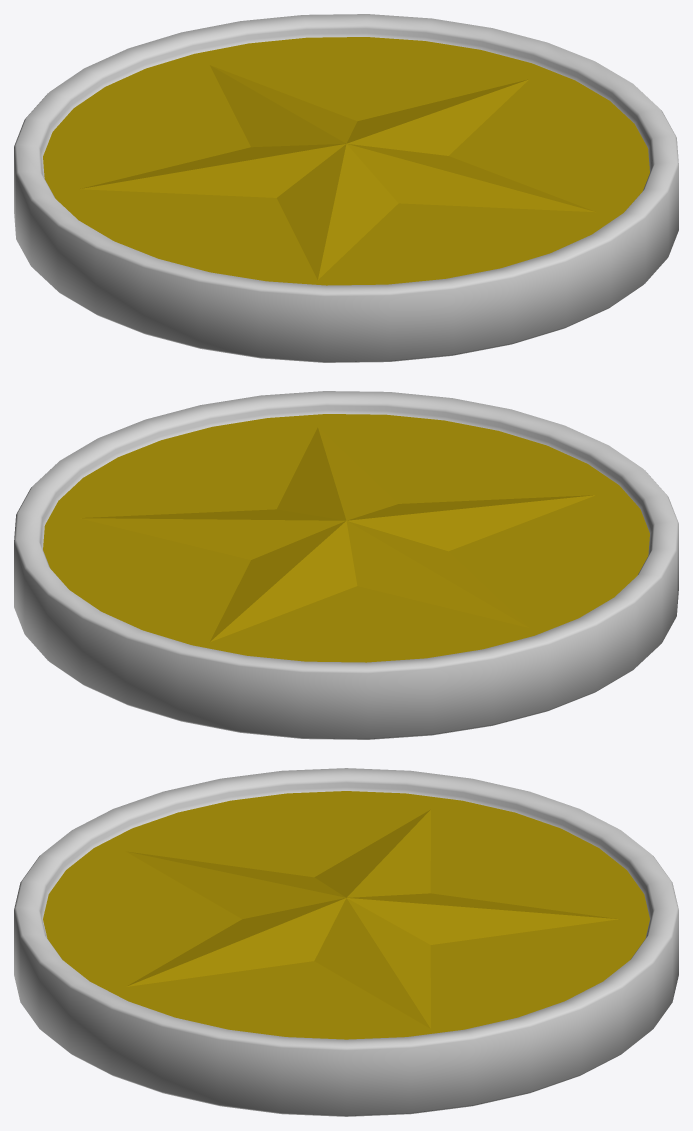
Rendered from coin0.fbx.
3 renders of one model, top to bottom at view 1: azimuth 30°, elevation 25°; view 2: azimuth 150°, elevation 25°; view 3: azimuth 270°, elevation 25°, orthographic.
Parts seen in each view (by area): view 1: Cylinder; view 2: Cylinder; view 3: Cylinder.
Part boxes in pixels (box(x1,y1,x2,y2)): Cylinder: box(14, 14, 678, 362); Cylinder: box(14, 391, 678, 739); Cylinder: box(14, 768, 678, 1116).
Bounding box in the file's own units: 2.17 × 0.3268 × 2.17.
